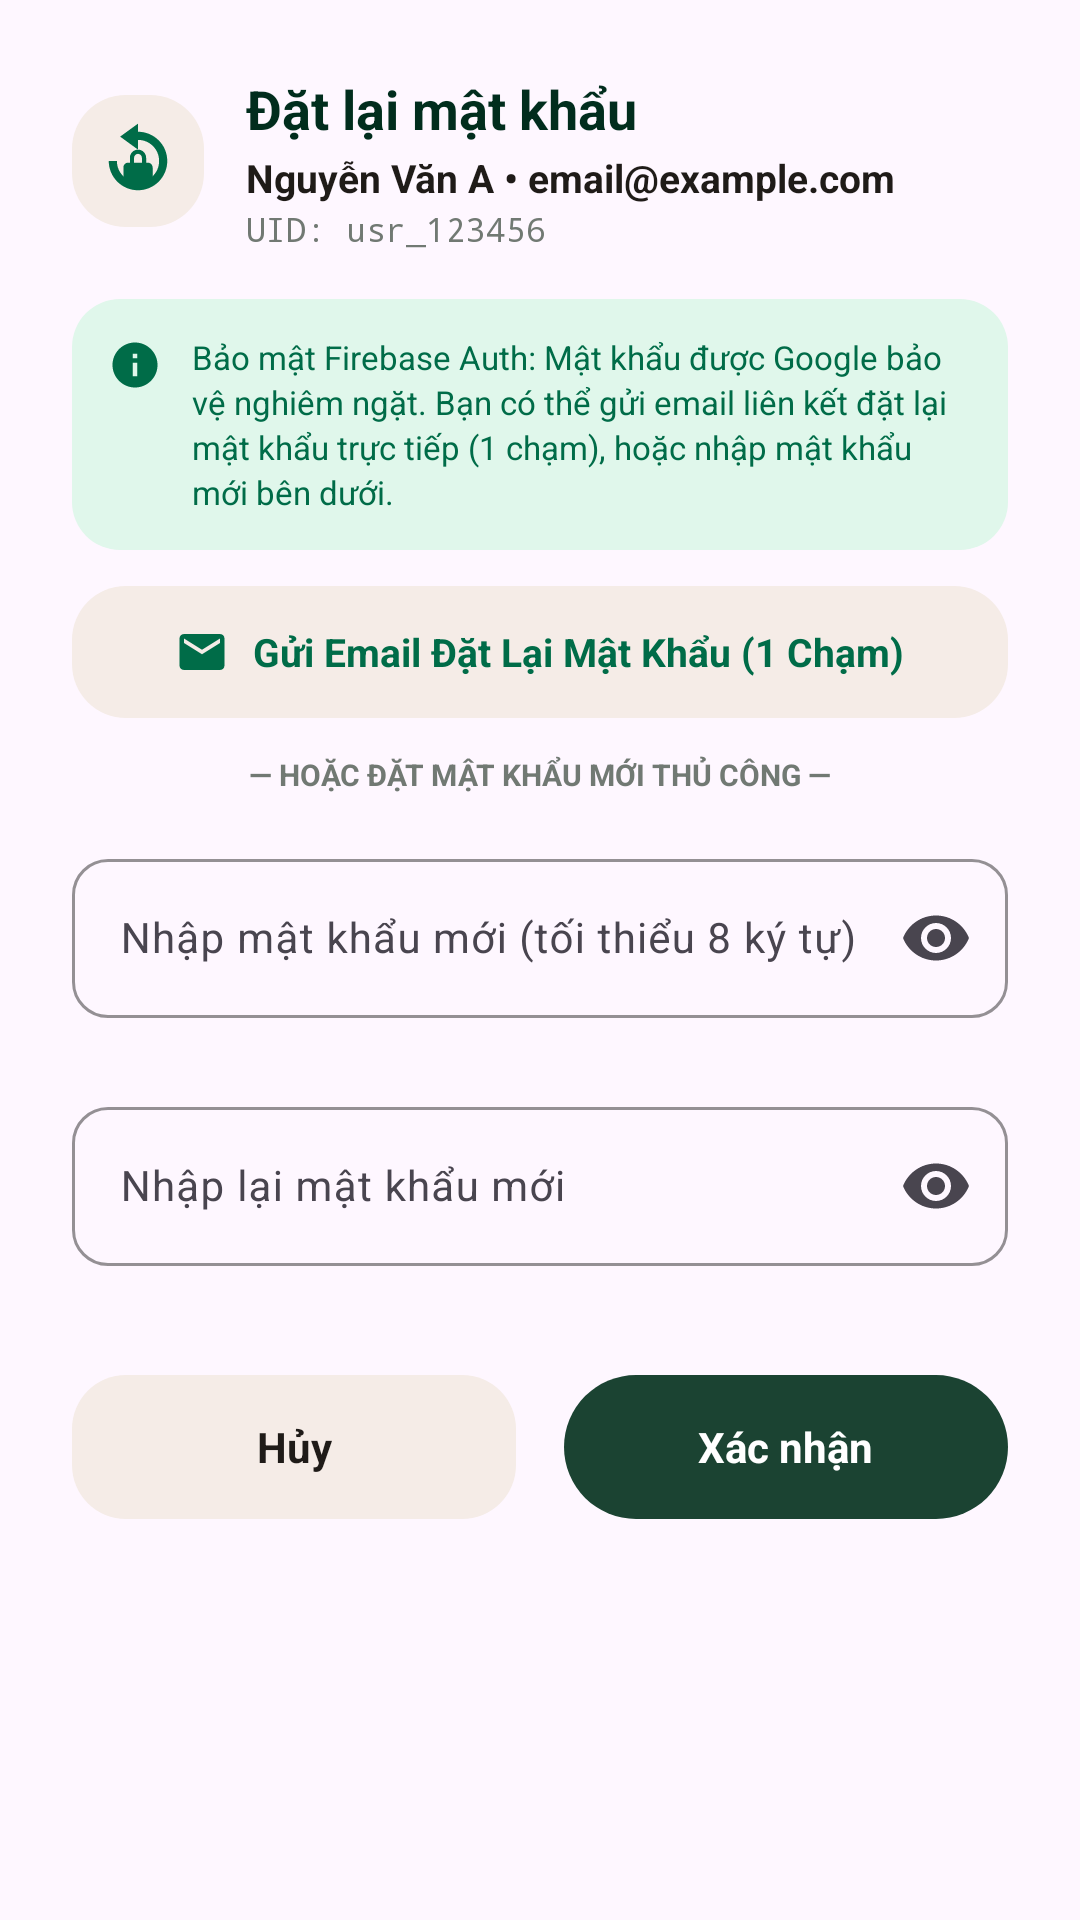

Locate icon controls on the screen. Image size 1080w x 1920h, boxes as box=[x1, y1, x2, y2].
Mail Icon: box=[179, 634, 225, 670]
Reset Password Icon: box=[72, 95, 204, 227]
Security Info: box=[112, 342, 158, 388]
